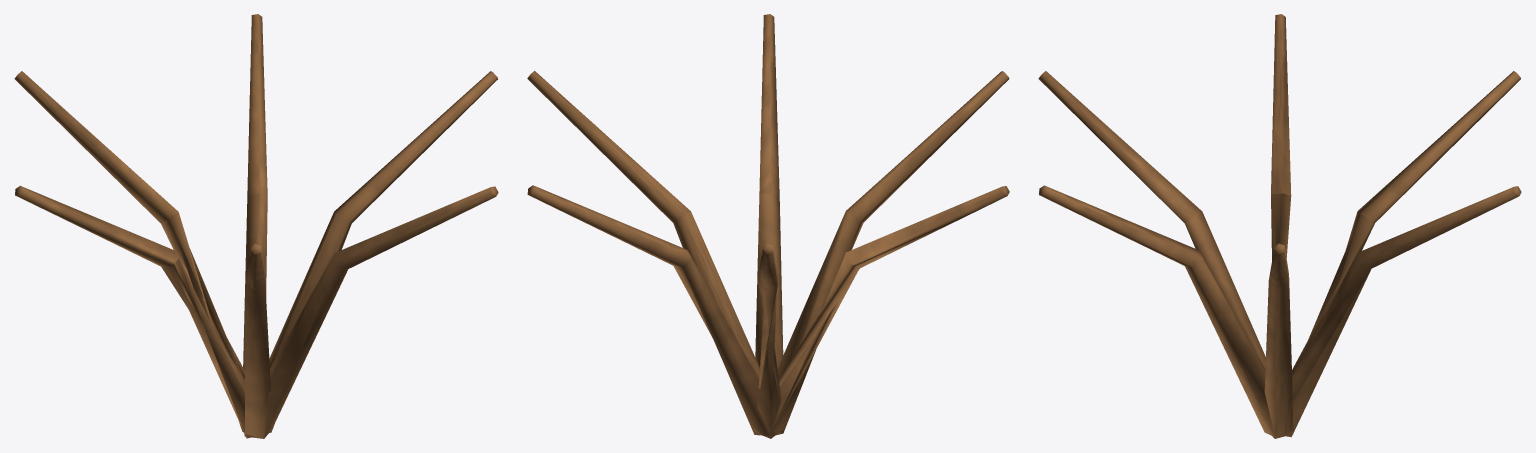
Rendered from ring-dry-brush-3.fbx.
3 renders of one model, left to right at view 1: azimuth 30°, elevation 25°; view 2: azimuth 150°, elevation 25°; view 3: azimuth 270°, elevation 25°, orthographic.
Parts seen in each view (by area): view 1: ring-dry-brush-3__Geometry; view 2: ring-dry-brush-3__Geometry; view 3: ring-dry-brush-3__Geometry.
Part boxes in pixels (left/top/right/bottom): ring-dry-brush-3__Geometry: left=14, top=14, right=498, bottom=438; ring-dry-brush-3__Geometry: left=527, top=14, right=1009, bottom=438; ring-dry-brush-3__Geometry: left=1038, top=14, right=1521, bottom=438.
Size of the model in its own units: 0.6674 by 0.4041 by 0.5812.
